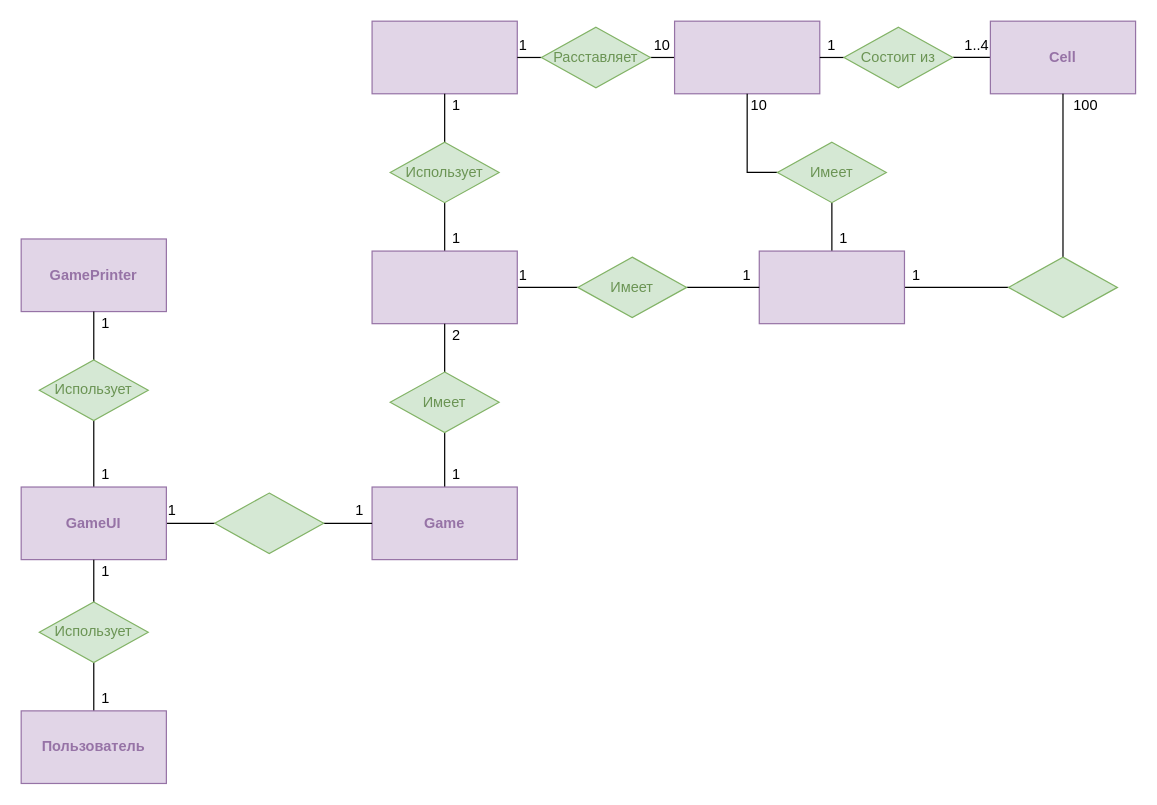
Image size: 1157x805. Some labels were removed from this diagram. The centre of each missing label's shape, as x and y in pixels:
"Field" belongs at pixel 831 287.
"PlaceShips" belongs at pixel 444 57.
"Player" belongs at pixel 444 287.
"Ship" belongs at pixel 746 57.
"Содержит" belongs at pixel 1062 287.
"Управляет" belongs at pixel 269 523.
